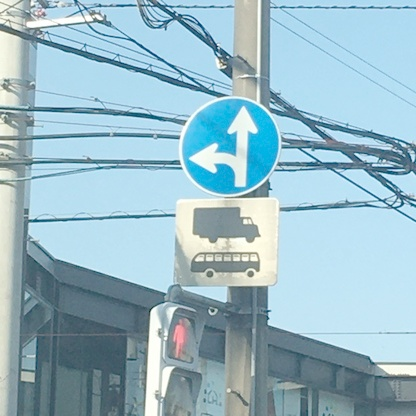Direction_sign: (176, 87, 291, 201)
